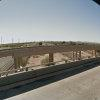Bridge: (5, 36, 100, 81)
